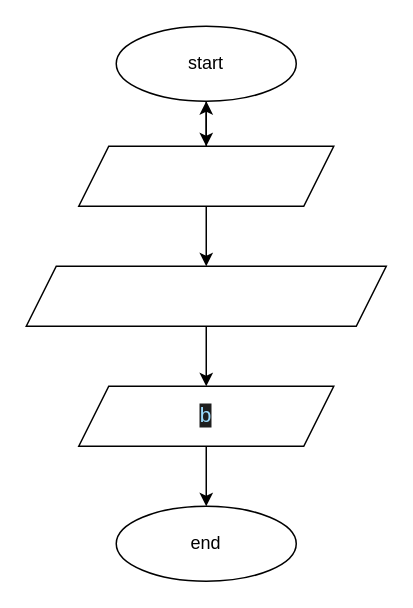
This 413x608 diagram has some shape labels left out. Here are the shapes that lost their labels. From the top down, the box of each, then its label:
(77, 145, 334, 206): number=abc
(25, 265, 386, 326): b = number / 10 % 10
